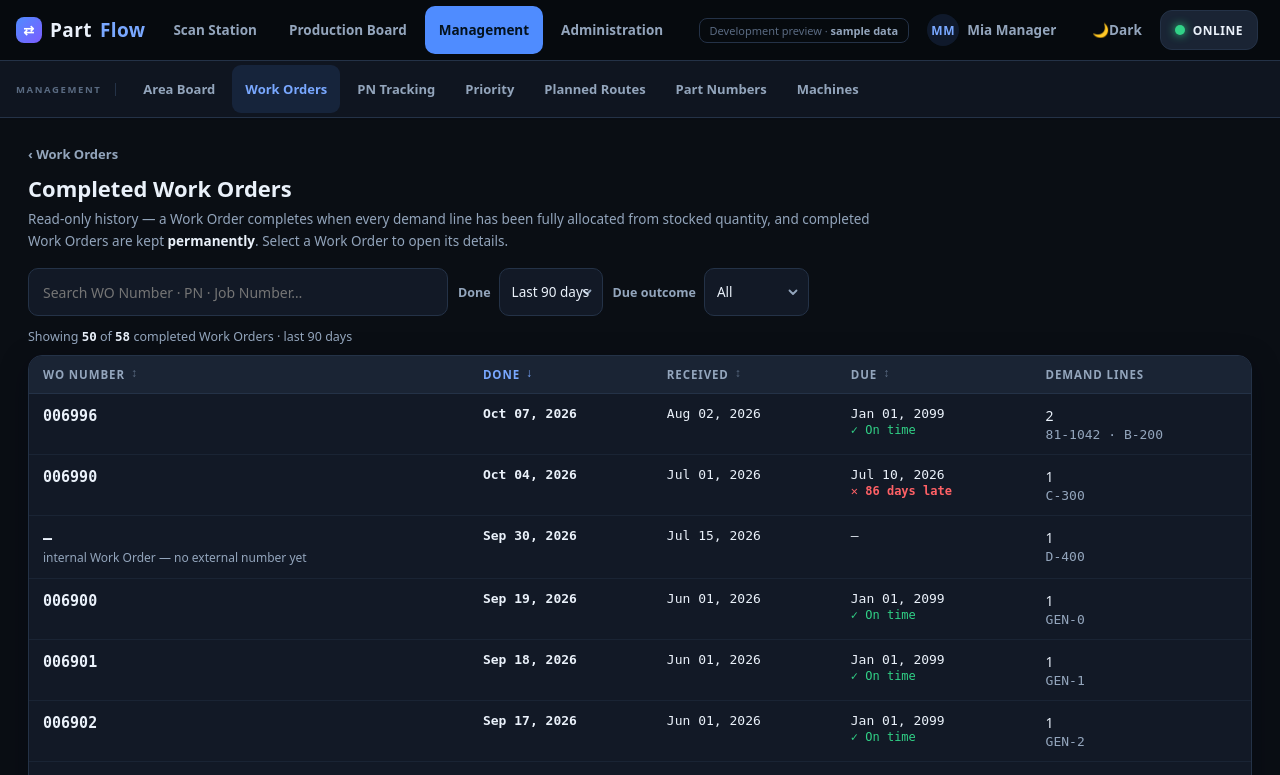
Show more continues the server keyset page — never an offset
Check: the heading "Completed Work Orders" is shown, box [28,173,292,203]
Check: the text "Showing 50 of 58 completed Work Orders · last 90 days" is shown, box [28,328,352,345]
Select "All time" in the dropdown named "Done date range" at (551, 292), box [499,268,603,316]
(page scrolled)
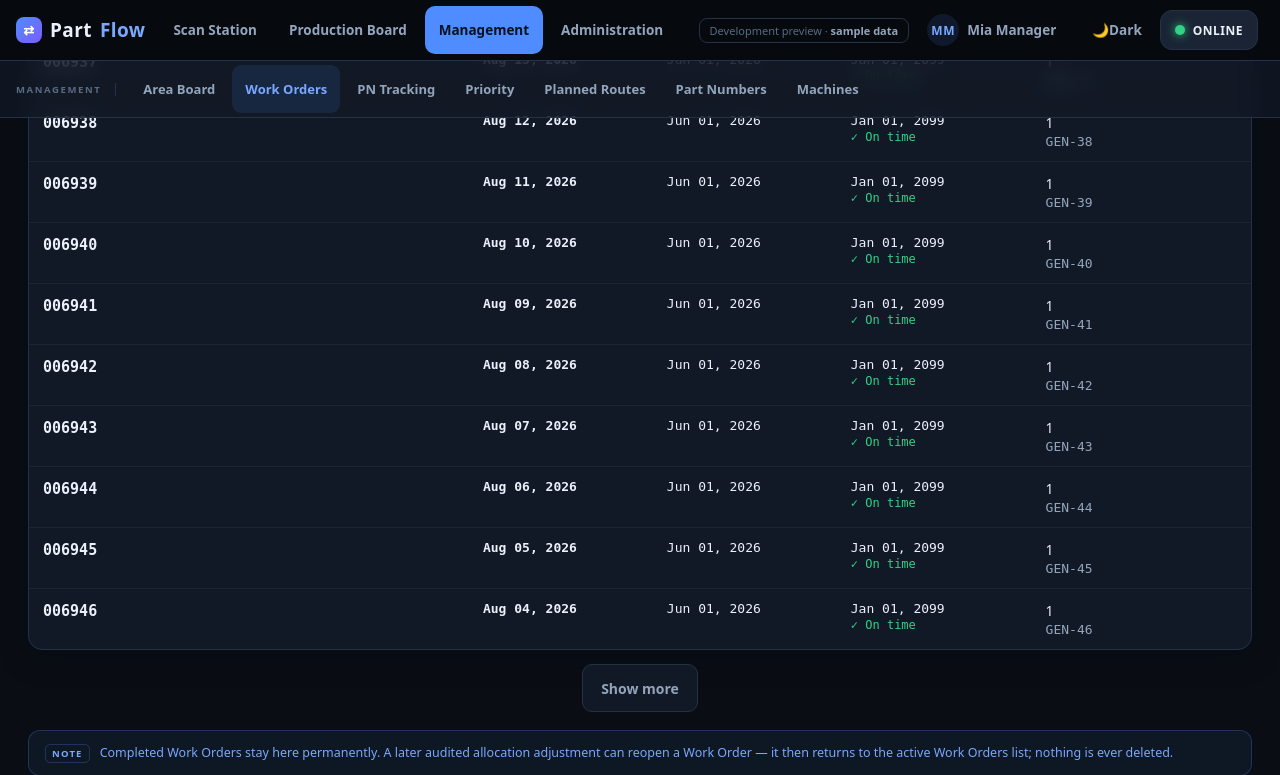
Click the button "Show more" at (640, 688), box [582,664,698,712]
(page scrolled)
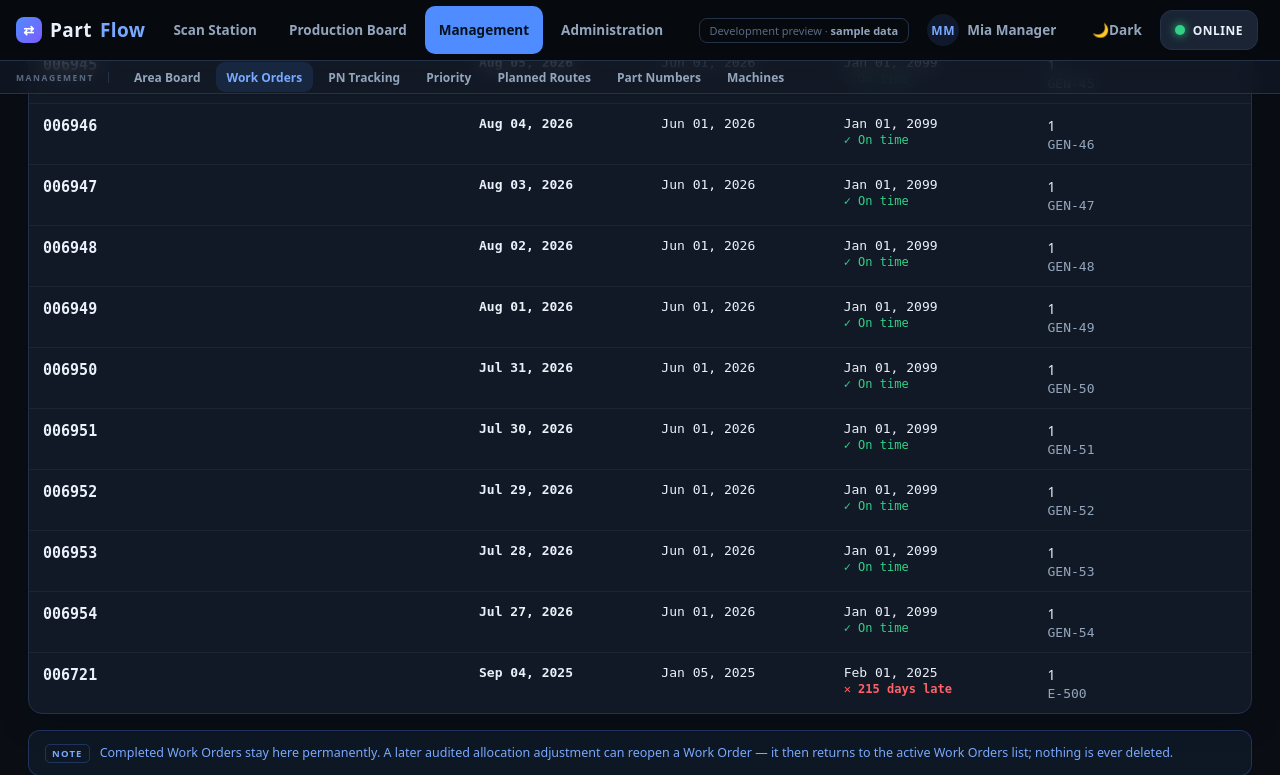
Check: the row with class "selrow" shows "006721", box [43,665,451,684]
Check: the button "Show more" is gone
